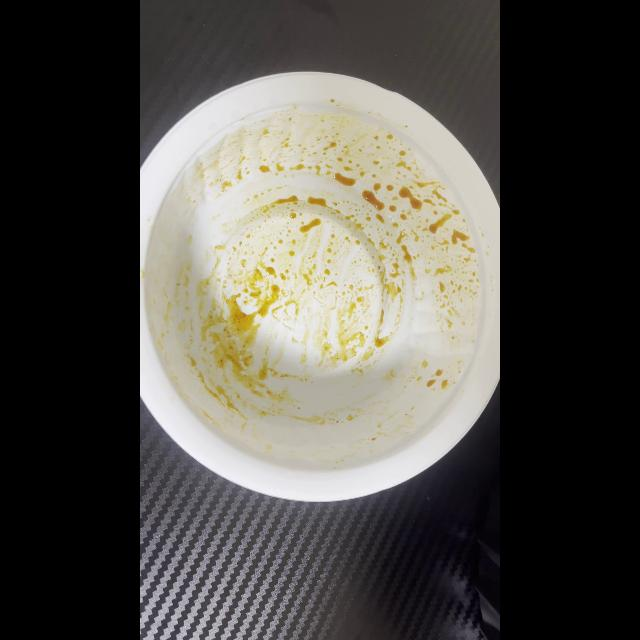dirty: (149, 124, 487, 448)
